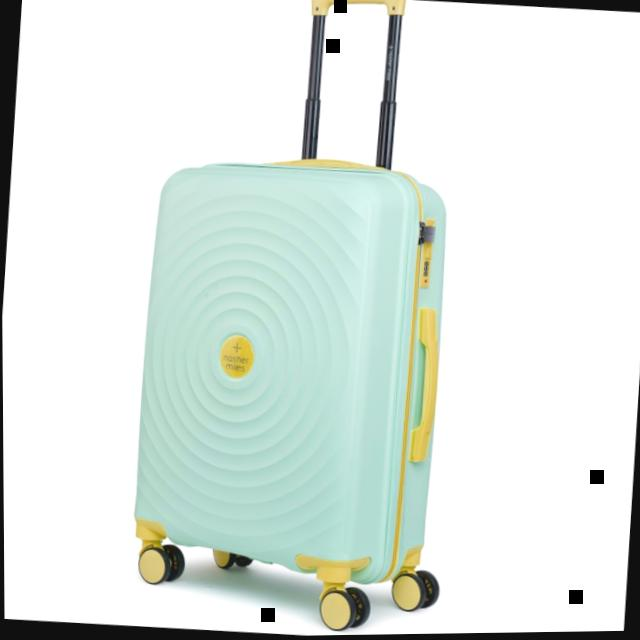luggage: (114, 131, 465, 595)
